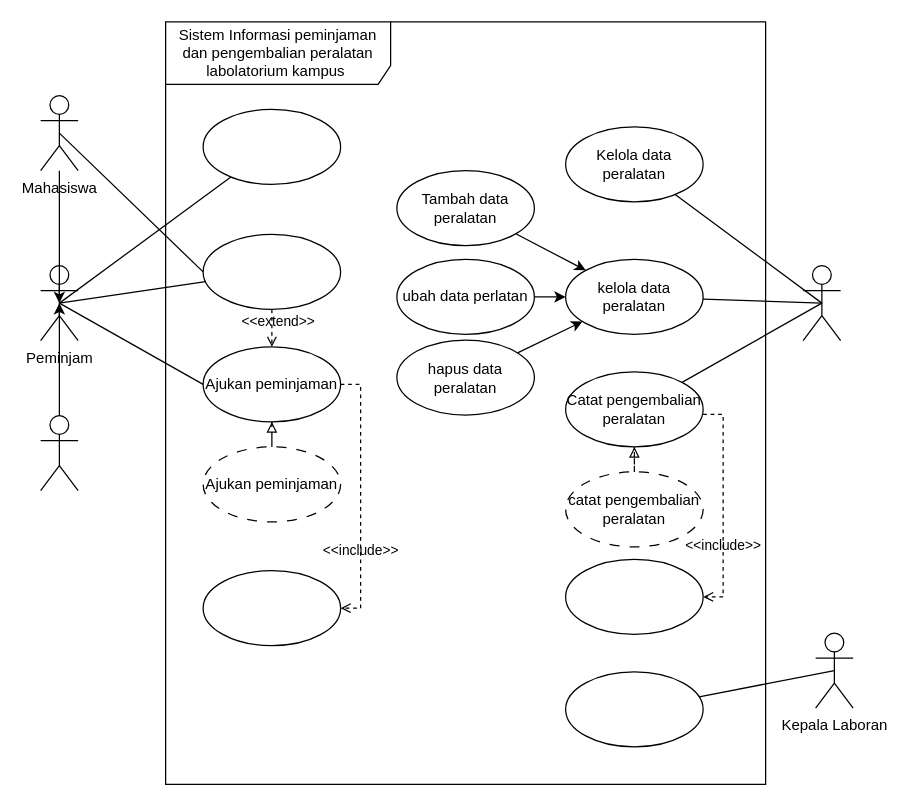
This 909x806 diagram has some shape labels left out. The box of each missing label's shape, as (x1, y1, x2, y2) in pixels:
Cetak bukti pengajuan: (202, 233, 341, 309)
Dosen: (39, 414, 78, 491)
Lihat ketersediaan peralatan: (202, 108, 341, 184)
Lihat laporan peminjaman: (564, 671, 703, 747)
Periksa ketersediaan: (202, 569, 341, 646)
periksa kondisi peralatan: (564, 558, 703, 634)
Petugas Laboran: (802, 264, 841, 341)
